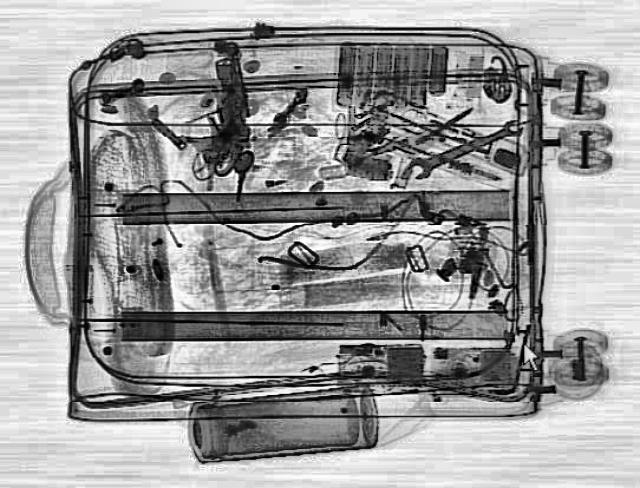Wrench: (398, 114, 528, 182)
